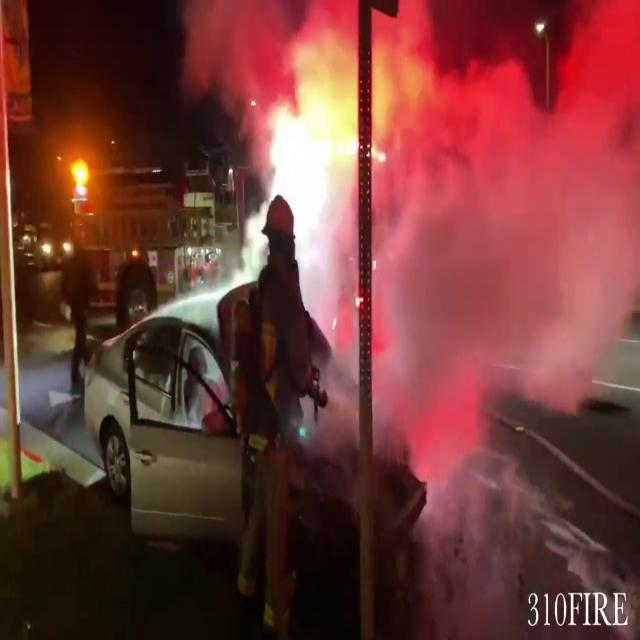Smoke: (369, 0, 640, 464)
